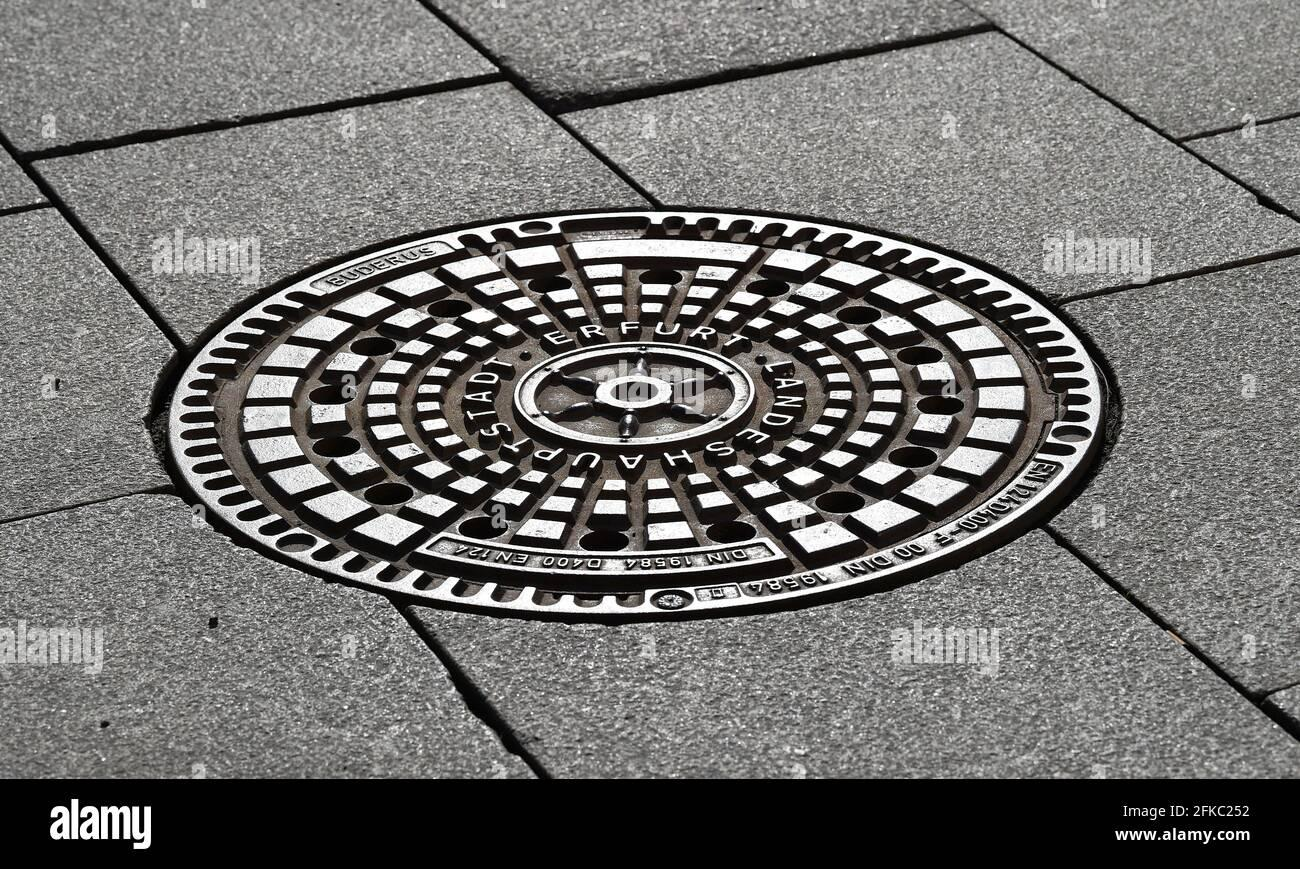open drainage-not overflowing-: (162, 197, 1111, 622)
